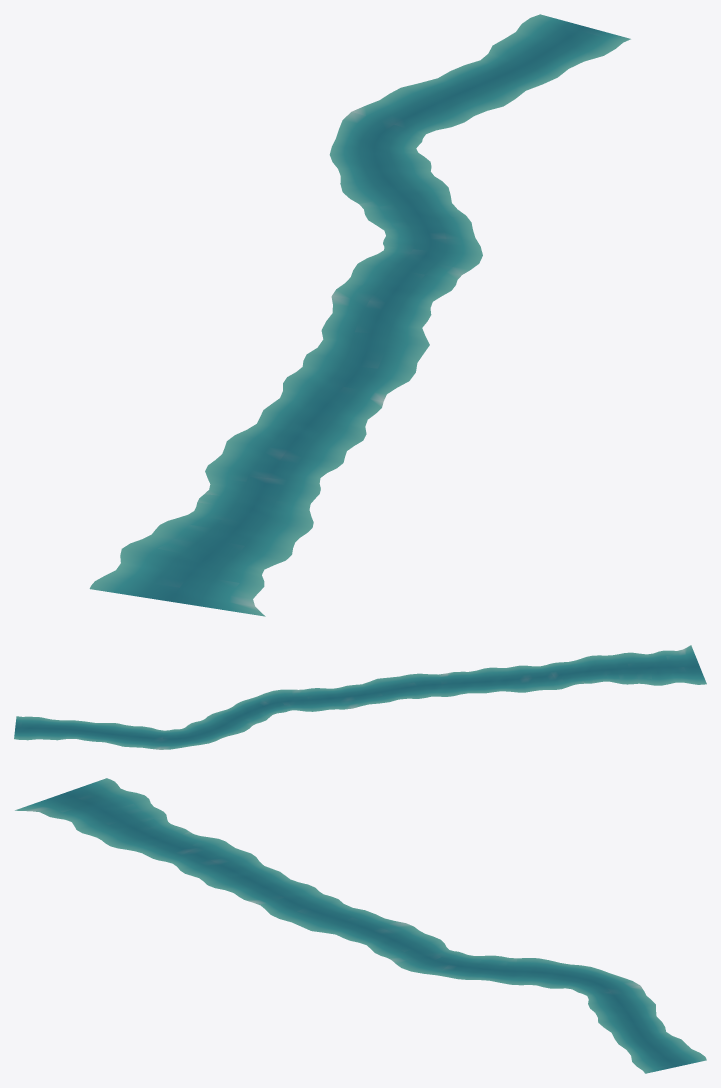
Rendered from ISL2_River.fbx.
3 views of the same model, one above another, from view 1: azimuth 30°, elevation 25°; view 2: azimuth 150°, elevation 25°; view 3: azimuth 270°, elevation 25° (orthographic). The views are drawn at different scales.
Visible parts, largest first — view 1: ISL2_River.001; view 2: ISL2_River.001; view 3: ISL2_River.001.
Boxes of the visible parts, left/top/right/bottom form: ISL2_River.001: left=89, top=14, right=630, bottom=616; ISL2_River.001: left=14, top=645, right=706, bottom=749; ISL2_River.001: left=15, top=778, right=706, bottom=1073.
Bounding box in the file's own units: 105 × 0.87 × 102.
